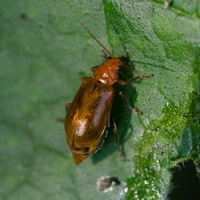insect: (64, 23, 152, 164)
